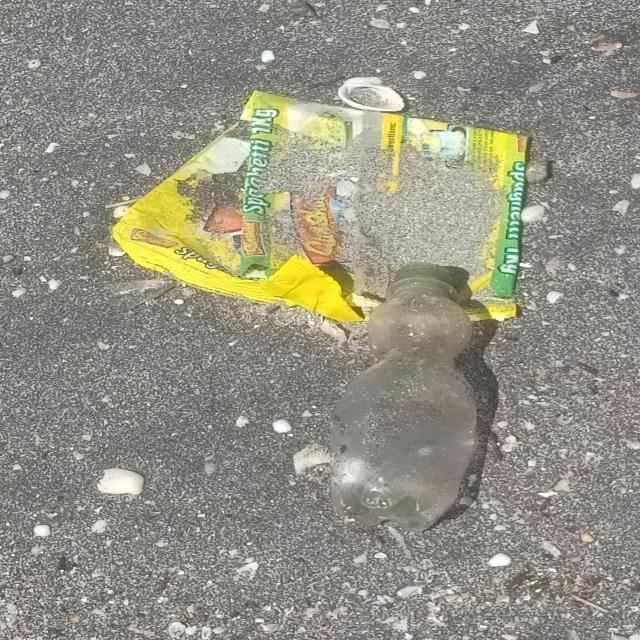plastic_waste: (113, 92, 531, 321), (329, 264, 479, 533)
